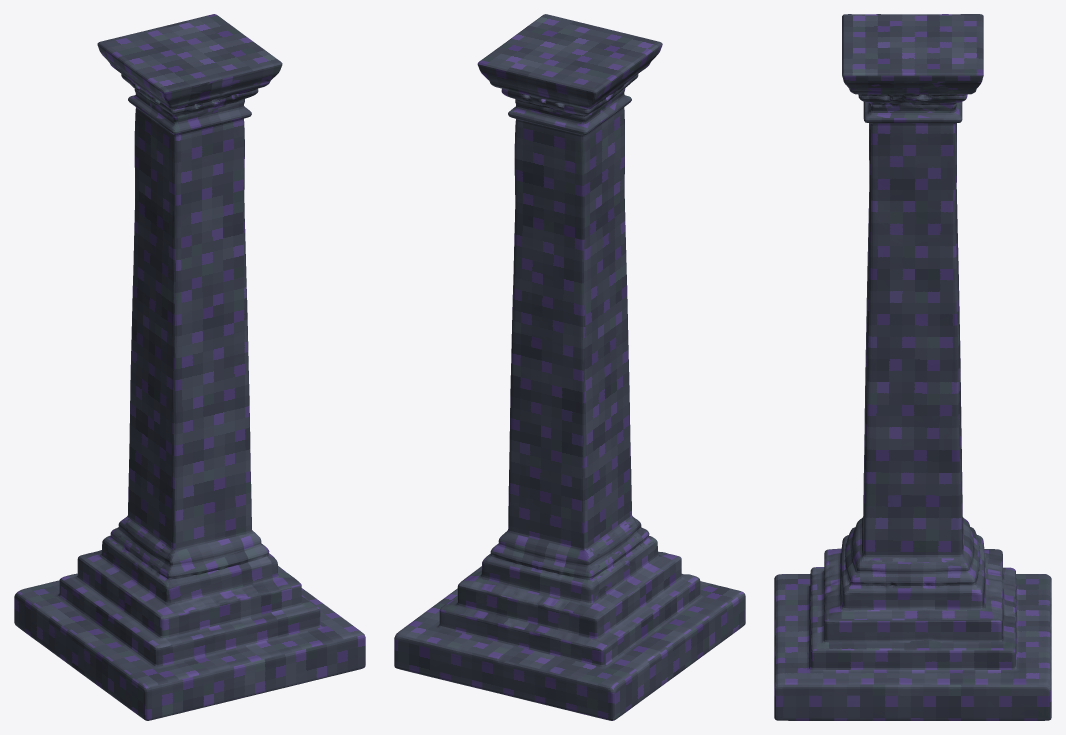
Rendered from weathered-monolith-pillar-generated-2026-04-19T23-45-16-485Z.glb.
The picture shows the model from 3 angles, left to right: view 1: azimuth 30°, elevation 25°; view 2: azimuth 150°, elevation 25°; view 3: azimuth 270°, elevation 25°; orthographic projection. The views are drawn at different scales.
Visible parts, largest first — view 1: temp_mesh.ply; view 2: temp_mesh.ply; view 3: temp_mesh.ply.
Part boxes in pixels (x1=…): temp_mesh.ply: x1=14, y1=14, x2=365, y2=720; temp_mesh.ply: x1=394, y1=14, x2=745, y2=720; temp_mesh.ply: x1=774, y1=14, x2=1051, y2=720.
Bounding box in the file's own units: 0.7672 × 1.97 × 0.7983.
Materials: 1 (1 with a texture image).
